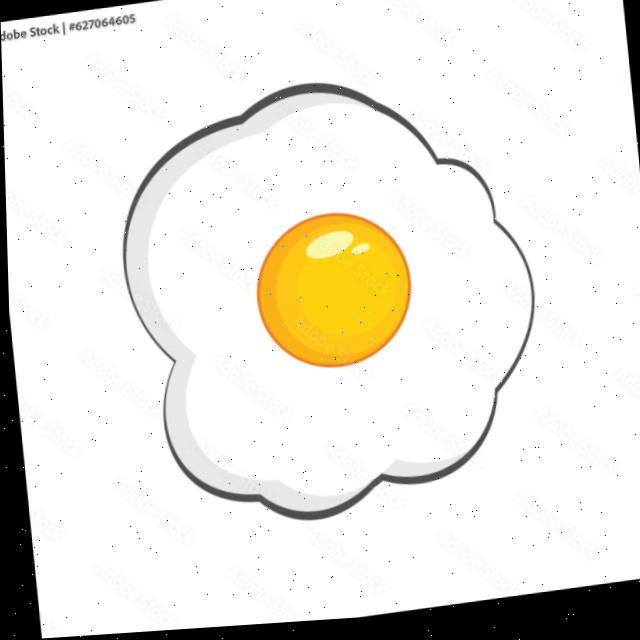Egg: (121, 88, 531, 523)
